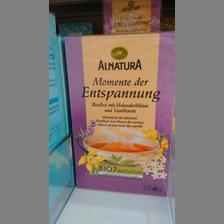Tee: (62, 32, 174, 198)
